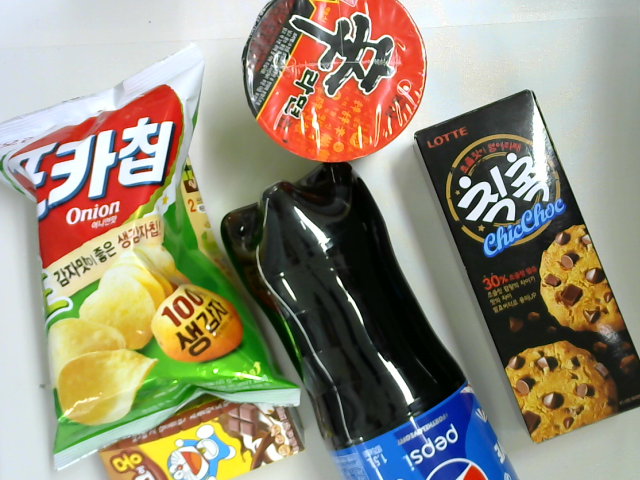Chicchok_Original_2400: (413, 89, 640, 444)
Choco_E_Mong: (97, 397, 307, 480)
Pepsi_Cola_1.5L: (220, 159, 522, 480)
Pocachip_Onion: (1, 38, 302, 474)
Sinramen_small: (239, 1, 430, 165)
